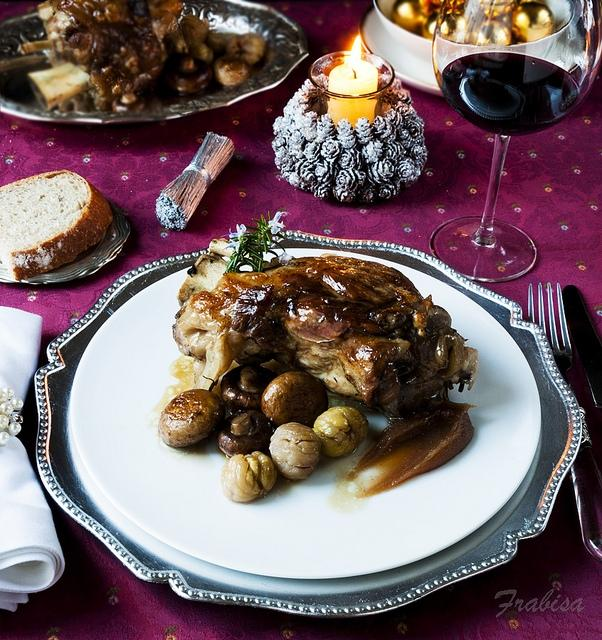mushroom: (159, 389, 225, 448), (261, 371, 329, 428), (219, 364, 279, 413), (312, 406, 368, 458), (217, 409, 273, 457), (167, 58, 212, 94), (226, 33, 266, 66), (180, 15, 209, 52), (214, 57, 250, 86), (206, 31, 228, 54), (190, 43, 213, 63), (172, 38, 188, 54)
